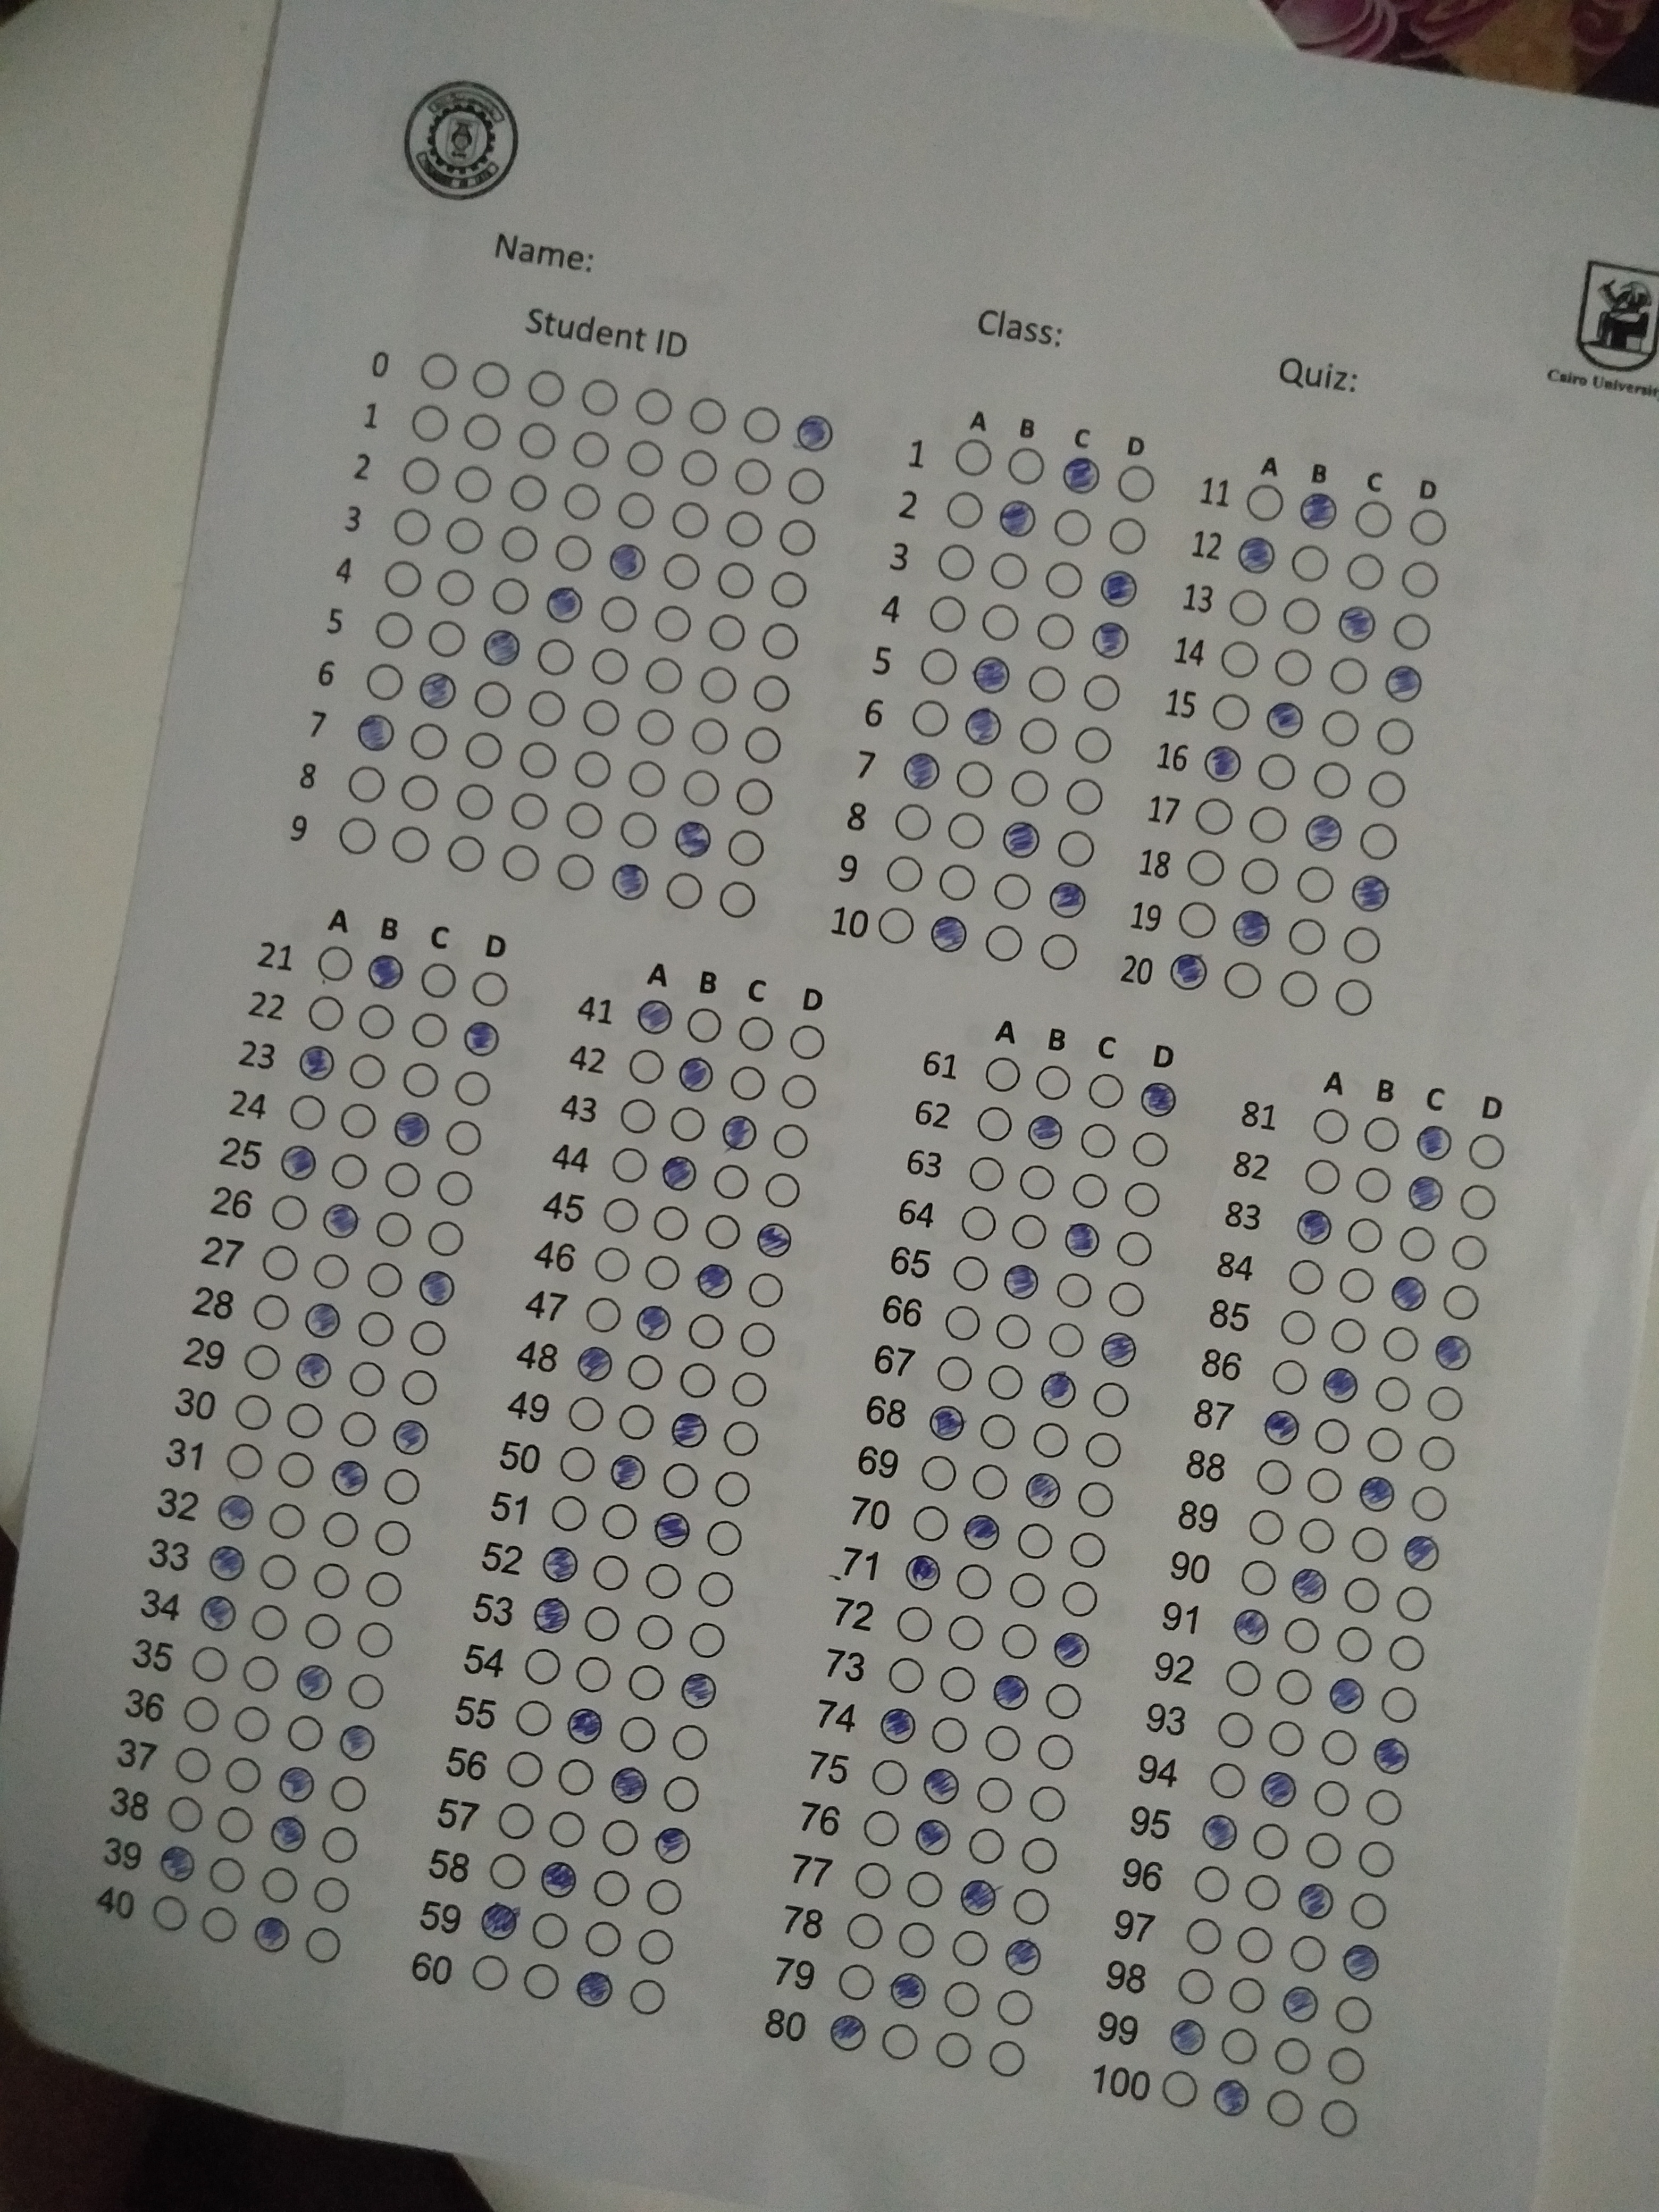not-c: (981, 1721, 1028, 1764), (1284, 1254, 1330, 1298), (1190, 794, 1236, 838), (469, 357, 512, 401), (525, 366, 568, 409), (579, 374, 622, 418), (631, 387, 674, 430), (685, 394, 728, 437), (739, 404, 782, 448), (730, 453, 774, 496), (676, 444, 720, 488), (624, 437, 667, 481), (568, 427, 612, 470), (408, 401, 451, 444), (721, 507, 765, 550), (669, 498, 713, 542), (615, 488, 659, 531), (561, 481, 605, 524), (504, 470, 547, 514), (450, 463, 493, 507), (399, 453, 443, 496), (390, 503, 434, 547), (443, 516, 486, 559), (500, 519, 544, 563), (660, 550, 704, 594), (713, 557, 756, 601), (765, 568, 809, 611), (758, 618, 802, 662), (708, 610, 751, 653), (652, 603, 695, 646), (594, 590, 638, 634), (488, 573, 532, 617), (432, 564, 476, 608), (380, 557, 423, 601), (533, 634, 577, 678), (643, 653, 687, 697), (695, 662, 739, 705), (742, 721, 786, 765), (688, 712, 732, 756), (526, 685, 570, 728), (368, 660, 411, 704), (406, 718, 450, 761), (462, 726, 505, 770), (518, 737, 561, 780), (732, 773, 775, 817), (725, 826, 769, 869), (617, 806, 660, 850), (718, 878, 762, 921), (664, 867, 708, 911), (716, 876, 760, 920), (563, 798, 606, 841), (507, 787, 551, 831), (455, 779, 498, 822), (399, 768, 443, 812), (345, 763, 389, 806), (336, 812, 380, 855), (444, 831, 488, 874), (315, 939, 359, 982), (355, 1000, 399, 1043), (467, 968, 511, 1012), (371, 1209, 415, 1252), (378, 1155, 422, 1198), (329, 1150, 373, 1193), (410, 1008, 453, 1052), (416, 956, 460, 1000), (336, 1099, 380, 1143), (399, 1055, 443, 1099), (347, 1049, 390, 1092), (465, 967, 509, 1010), (378, 1465, 422, 1508), (274, 1446, 317, 1489), (345, 1357, 389, 1400), (406, 1315, 450, 1359), (310, 1249, 354, 1292), (336, 1407, 380, 1451), (232, 1388, 275, 1432), (354, 1305, 397, 1348), (249, 1291, 293, 1334), (268, 1190, 312, 1233), (308, 1559, 352, 1602), (371, 1514, 415, 1557), (258, 1547, 301, 1590), (319, 1505, 362, 1548), (265, 1496, 308, 1540), (247, 1602, 291, 1646), (345, 1670, 389, 1714), (230, 1703, 274, 1747), (179, 1691, 223, 1735), (171, 1742, 214, 1785), (326, 1771, 369, 1815), (148, 1893, 192, 1937), (197, 1900, 240, 1944), (303, 1925, 347, 1968), (469, 1949, 512, 1993), (519, 1958, 563, 2001), (627, 1975, 671, 2019), (636, 1926, 680, 1970), (582, 1916, 626, 1959), (528, 1909, 572, 1952), (486, 1848, 530, 1892), (591, 1867, 634, 1911), (643, 1872, 687, 1916), (545, 1806, 589, 1850), (495, 1799, 538, 1843), (502, 1745, 545, 1789), (552, 1754, 596, 1797), (659, 1771, 702, 1815), (617, 1710, 660, 1754), (626, 1660, 669, 1703), (688, 1616, 732, 1660), (636, 1609, 680, 1653), (580, 1599, 624, 1642), (702, 1515, 746, 1559), (643, 1559, 687, 1602), (589, 1550, 633, 1594), (598, 1498, 641, 1541), (549, 1491, 592, 1534), (556, 1440, 599, 1484), (660, 1458, 704, 1501), (718, 1420, 762, 1463), (727, 1371, 770, 1414), (735, 1318, 779, 1362), (744, 1270, 788, 1313), (591, 1244, 634, 1287), (683, 1312, 727, 1355), (676, 1360, 720, 1404), (624, 1352, 667, 1395), (565, 1393, 608, 1437), (599, 1195, 643, 1238), (615, 1094, 659, 1137), (624, 1045, 667, 1089), (687, 1003, 730, 1047), (735, 1012, 779, 1055), (728, 1061, 772, 1104), (666, 1103, 709, 1146), (650, 1202, 694, 1245), (702, 1211, 746, 1254), (711, 1160, 755, 1204), (762, 1169, 805, 1212), (770, 1122, 814, 1165), (779, 1071, 823, 1115), (985, 1054, 1028, 1097), (1032, 1061, 1075, 1104), (1086, 1068, 1129, 1111), (1068, 1165, 1112, 1209), (964, 1153, 1007, 1197), (960, 1204, 1004, 1247), (950, 1251, 993, 1294), (939, 1299, 983, 1343), (981, 1362, 1025, 1406), (993, 1312, 1037, 1355), (1105, 1277, 1148, 1320), (1114, 1230, 1157, 1273), (1122, 1177, 1166, 1221), (1127, 1129, 1171, 1172), (1009, 1211, 1053, 1254), (1030, 1420, 1073, 1463), (978, 1409, 1021, 1453), (918, 1451, 962, 1494), (967, 1461, 1011, 1505), (1068, 1527, 1112, 1571), (910, 1503, 953, 1547), (953, 1559, 997, 1602), (1007, 1568, 1051, 1611), (1061, 1576, 1105, 1620), (945, 1609, 988, 1653), (894, 1602, 938, 1646), (885, 1655, 929, 1698), (938, 1660, 981, 1703), (1042, 1679, 1086, 1723), (1035, 1728, 1079, 1771), (929, 1714, 972, 1757), (972, 1773, 1016, 1817), (1025, 1778, 1068, 1822), (965, 1822, 1009, 1865), (850, 1857, 894, 1900), (1011, 1886, 1054, 1930), (894, 1918, 938, 1961), (842, 1911, 885, 1954), (835, 1959, 878, 2003), (939, 1979, 983, 2022), (932, 2031, 976, 2074), (877, 2022, 920, 2066), (1319, 2097, 1363, 2141), (1333, 1993, 1377, 2036), (1225, 1973, 1269, 2017), (1175, 1966, 1218, 2010), (1236, 1923, 1279, 1966), (1190, 1862, 1234, 1905), (1251, 1822, 1295, 1865), (1356, 1839, 1399, 1883), (1206, 1759, 1249, 1803), (1213, 1707, 1256, 1750), (1265, 1717, 1309, 1761), (1317, 1726, 1361, 1770), (1361, 1787, 1405, 1831), (1378, 1681, 1422, 1724), (1274, 1663, 1317, 1707), (1223, 1655, 1267, 1698), (1331, 1622, 1375, 1665), (1385, 1632, 1429, 1676), (1392, 1581, 1436, 1625), (1342, 1573, 1385, 1616), (1239, 1555, 1283, 1599), (1246, 1505, 1290, 1548), (1295, 1512, 1338, 1555), (1347, 1521, 1391, 1564), (1251, 1456, 1295, 1500), (1361, 1425, 1405, 1468), (1424, 1379, 1467, 1423), (1373, 1372, 1417, 1416), (1270, 1357, 1314, 1400), (1276, 1305, 1319, 1348), (1324, 1312, 1368, 1355), (1377, 1320, 1420, 1364), (1438, 1280, 1481, 1324), (1335, 1263, 1378, 1306), (1394, 1223, 1438, 1266), (1446, 1230, 1490, 1273), (1220, 958, 1263, 1001), (1277, 965, 1321, 1008), (1331, 975, 1375, 1019), (1286, 914, 1330, 958), (1039, 932, 1082, 975), (1173, 899, 1216, 942), (1239, 853, 1283, 897), (1295, 862, 1338, 906), (1244, 805, 1288, 848), (1209, 691, 1253, 735), (1317, 707, 1361, 751), (1373, 714, 1417, 758), (1361, 768, 1405, 812), (1255, 749, 1298, 792), (1218, 641, 1262, 685), (1272, 648, 1316, 691), (1326, 655, 1370, 698), (1391, 611, 1434, 655), (1401, 559, 1445, 603), (1406, 509, 1450, 552), (1244, 481, 1288, 524), (1286, 543, 1330, 587), (1279, 594, 1323, 637), (985, 923, 1028, 967), (875, 906, 918, 949), (884, 852, 927, 895), (938, 862, 981, 906), (1056, 829, 1100, 873), (941, 810, 985, 853), (892, 801, 936, 845), (953, 759, 997, 803), (1011, 768, 1054, 812), (1065, 775, 1108, 819), (908, 697, 951, 740), (934, 542, 978, 585), (988, 552, 1032, 596), (979, 604, 1023, 648), (1033, 611, 1077, 655), (1042, 559, 1086, 603), (1105, 516, 1148, 559), (1080, 672, 1124, 716), (1115, 462, 1159, 505), (1006, 446, 1049, 489), (945, 489, 988, 533), (206, 1855, 249, 1898), (361, 1259, 406, 1301), (361, 1568, 406, 1609), (599, 1817, 645, 1858), (416, 348, 460, 390), (786, 465, 829, 507), (514, 420, 558, 462), (462, 413, 505, 455), (775, 519, 819, 561), (551, 533, 594, 575), (371, 608, 415, 650), (427, 617, 471, 658), (587, 646, 631, 688), (749, 671, 793, 712), (633, 704, 676, 745), (580, 697, 624, 738), (472, 679, 516, 721), (570, 745, 613, 787), (627, 756, 671, 798), (681, 765, 725, 806), (389, 822, 432, 864), (500, 840, 544, 881), (554, 850, 598, 892), (303, 993, 347, 1035), (453, 1064, 497, 1106), (432, 1163, 476, 1205), (441, 1115, 484, 1157), (286, 1092, 329, 1134), (221, 1437, 265, 1479), (239, 1339, 282, 1381), (399, 1366, 443, 1407), (282, 1397, 326, 1439), (425, 1217, 469, 1259), (260, 1244, 303, 1285), (354, 1618, 397, 1660), (301, 1611, 345, 1653), (188, 1644, 232, 1686), (240, 1653, 284, 1695), (284, 1712, 328, 1754), (221, 1752, 265, 1794), (317, 1824, 361, 1865), (310, 1874, 354, 1916), (258, 1864, 301, 1905), (213, 1803, 256, 1844), (162, 1792, 206, 1834), (669, 1723, 713, 1764), (512, 1696, 556, 1738), (519, 1644, 563, 1686), (570, 1651, 613, 1693), (694, 1566, 737, 1608), (711, 1467, 755, 1508), (643, 1252, 687, 1294), (582, 1294, 626, 1336), (617, 1402, 660, 1444), (606, 1144, 650, 1186), (788, 1021, 831, 1062), (1079, 1120, 1122, 1162), (1018, 1160, 1061, 1202), (971, 1103, 1014, 1144), (932, 1353, 976, 1395), (1046, 1320, 1089, 1362), (1054, 1270, 1098, 1312), (1091, 1381, 1134, 1423), (1082, 1428, 1126, 1470), (1077, 1479, 1121, 1521), (1014, 1521, 1058, 1562), (999, 1618, 1042, 1660), (870, 1757, 913, 1799), (1018, 1832, 1061, 1874), (859, 1808, 903, 1850), (903, 1867, 946, 1909), (948, 1928, 992, 1970), (995, 1987, 1039, 2029), (985, 2038, 1028, 2080), (1161, 2067, 1204, 2109), (1265, 2088, 1309, 2130), (1324, 2047, 1368, 2088), (1270, 2036, 1314, 2078), (1216, 2026, 1260, 2067), (1183, 1916, 1227, 1958), (1286, 1933, 1330, 1975), (1349, 1892, 1392, 1933), (1241, 1872, 1284, 1914), (1302, 1829, 1345, 1871), (1310, 1778, 1354, 1820), (1281, 1615, 1324, 1656), (1406, 1480, 1450, 1522), (1305, 1463, 1349, 1505), (1309, 1414, 1352, 1456), (1415, 1432, 1459, 1474), (1344, 1212, 1387, 1254), (1464, 1127, 1506, 1170), (1340, 921, 1384, 963), (1185, 846, 1229, 888), (1310, 759, 1354, 801), (1358, 820, 1401, 862), (1354, 500, 1398, 542), (1344, 552, 1387, 594), (1227, 587, 1270, 629), (992, 871, 1035, 913), (1072, 726, 1115, 768), (1018, 716, 1061, 758), (917, 646, 960, 688), (929, 596, 972, 637), (1026, 664, 1070, 705), (951, 437, 995, 479), (1051, 509, 1094, 550), (1303, 1153, 1344, 1197), (1310, 1103, 1351, 1146), (1359, 1111, 1399, 1155), (1457, 1181, 1497, 1223), (1352, 1165, 1392, 1207), (1466, 1129, 1506, 1170)
taken-c: (537, 1860, 580, 1902), (606, 1766, 650, 1808), (694, 1261, 737, 1303), (633, 998, 676, 1040), (901, 1552, 945, 1594), (920, 1766, 964, 1808), (1166, 2017, 1209, 2059), (1335, 604, 1378, 646), (1236, 535, 1279, 577), (795, 411, 836, 453), (606, 542, 648, 583), (544, 585, 586, 627), (481, 627, 523, 669), (416, 671, 458, 712), (354, 712, 396, 754), (674, 819, 716, 860), (608, 862, 650, 904), (366, 951, 408, 993), (460, 1019, 502, 1061), (295, 1043, 336, 1085), (277, 1143, 319, 1184), (321, 1202, 362, 1244), (415, 1268, 457, 1310), (301, 1301, 343, 1343), (392, 1416, 434, 1458), (328, 1460, 369, 1501), (206, 1543, 247, 1585), (199, 1594, 240, 1635), (338, 1723, 380, 1764), (157, 1844, 199, 1886), (253, 1914, 295, 1956), (477, 1902, 519, 1944), (575, 1968, 617, 2010), (653, 1825, 695, 1867), (532, 1595, 573, 1637), (652, 1510, 694, 1552), (606, 1453, 648, 1494), (669, 1411, 711, 1453), (575, 1343, 617, 1385), (753, 1221, 795, 1263), (659, 1153, 701, 1195), (718, 1113, 760, 1155), (676, 1055, 718, 1097), (999, 1261, 1040, 1303), (1060, 1219, 1101, 1261), (1023, 1111, 1065, 1153), (1138, 1080, 1180, 1122), (1413, 1123, 1455, 1165), (1406, 1172, 1448, 1214), (1293, 1207, 1335, 1249), (1039, 1371, 1080, 1413), (925, 1404, 967, 1446), (1023, 1468, 1065, 1510), (960, 1512, 1002, 1554), (1051, 1630, 1093, 1672), (992, 1670, 1033, 1712), (880, 1705, 922, 1747), (913, 1818, 955, 1860), (958, 1876, 1000, 1918), (1002, 1937, 1044, 1979), (887, 1970, 929, 2012), (828, 2012, 870, 2054), (1209, 2078, 1251, 2120), (1279, 1986, 1321, 2027), (1342, 1942, 1384, 1984), (1295, 1881, 1337, 1923), (1199, 1813, 1241, 1855), (1258, 1770, 1300, 1811), (1370, 1735, 1412, 1777), (1232, 1608, 1274, 1649), (1290, 1566, 1331, 1608), (1401, 1533, 1443, 1575), (1358, 1474, 1399, 1515), (1262, 1407, 1303, 1449), (1432, 1332, 1474, 1374), (1387, 1273, 1429, 1315), (1169, 953, 1211, 995), (1230, 909, 1272, 951), (1303, 813, 1345, 855), (1202, 744, 1244, 786), (1263, 700, 1305, 742), (1300, 491, 1342, 533), (1061, 455, 1103, 496), (995, 498, 1037, 540), (1089, 620, 1131, 662), (969, 655, 1011, 697), (962, 707, 1004, 749), (899, 751, 941, 792), (1000, 820, 1042, 862), (1047, 881, 1089, 923), (927, 913, 969, 954), (293, 1350, 336, 1390), (293, 1663, 336, 1703), (392, 1109, 434, 1150), (216, 1494, 258, 1534), (275, 1766, 317, 1806), (268, 1815, 310, 1855), (566, 1707, 608, 1747), (678, 1672, 720, 1712), (538, 1545, 580, 1585), (633, 1303, 674, 1343), (1096, 1331, 1138, 1371), (1326, 1676, 1368, 1716), (1321, 1366, 1363, 1406), (1349, 874, 1391, 914), (1382, 665, 1424, 705), (1098, 570, 1140, 610)
